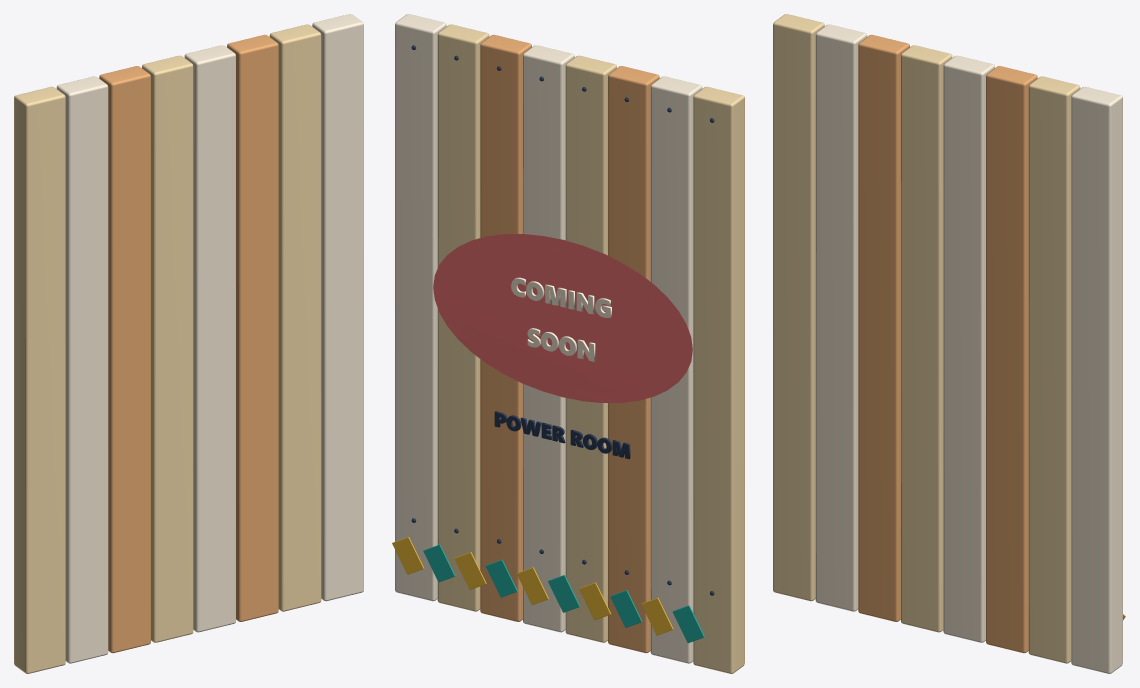
Rendered from PartitionAnnex.fbx.
3 views of the same model, side by side, from view 1: azimuth 30°, elevation 25°; view 2: azimuth 150°, elevation 25°; view 3: azimuth 330°, elevation 25° (orthographic).
Parts seen in each view (by area): view 1: PartitionAnnex mesh; view 2: PartitionAnnex mesh; view 3: PartitionAnnex mesh.
Boxes of the visible parts, x1,y1,x2,y2 form: PartitionAnnex mesh: (14,14,363,673); PartitionAnnex mesh: (392,14,744,673); PartitionAnnex mesh: (773,14,1125,673).
Size of the model in its own units: 1.75 by 2.8 by 0.1395.
